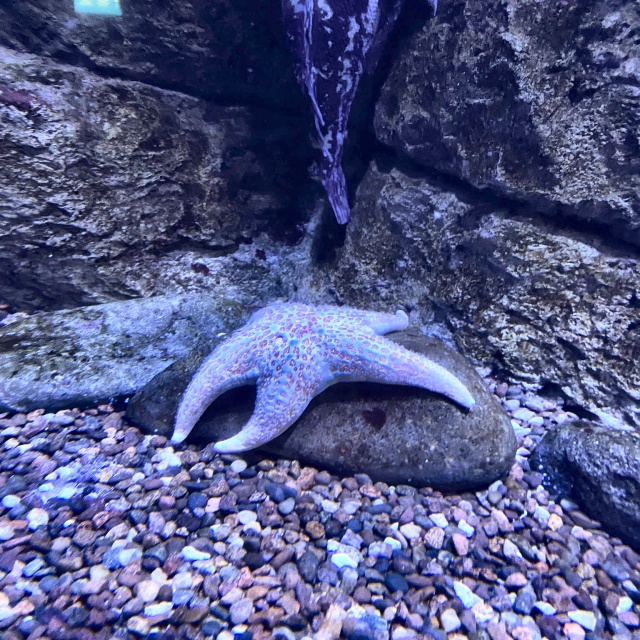starfish: (172, 301, 475, 453)
